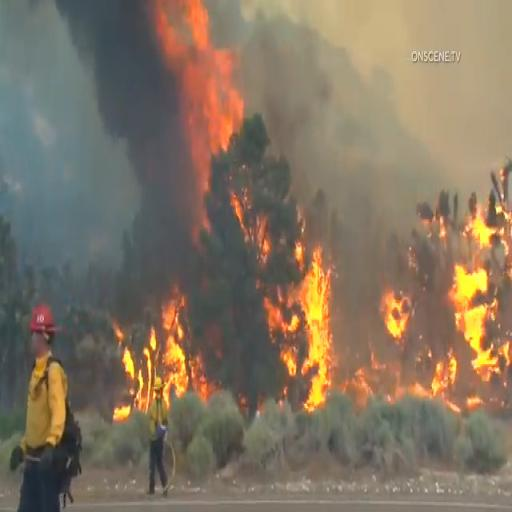fire: (272, 265, 330, 392), (128, 292, 197, 377), (454, 242, 489, 364)
smoke: (90, 2, 317, 108)
